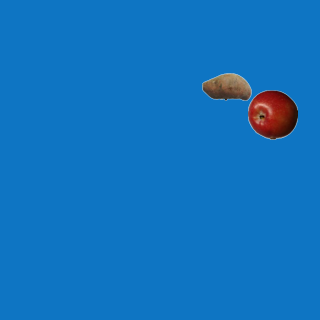Apple Braeburn: (247, 89, 297, 139)
Potato Sweet: (201, 61, 251, 111)
